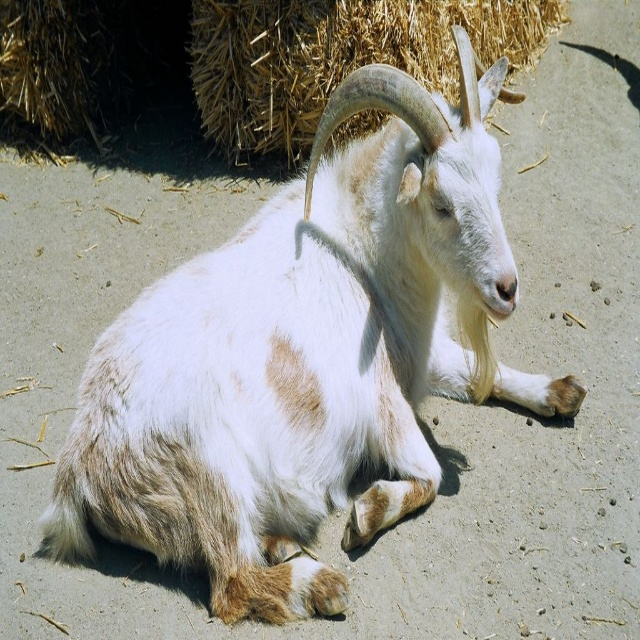Goat: (38, 24, 587, 626)
